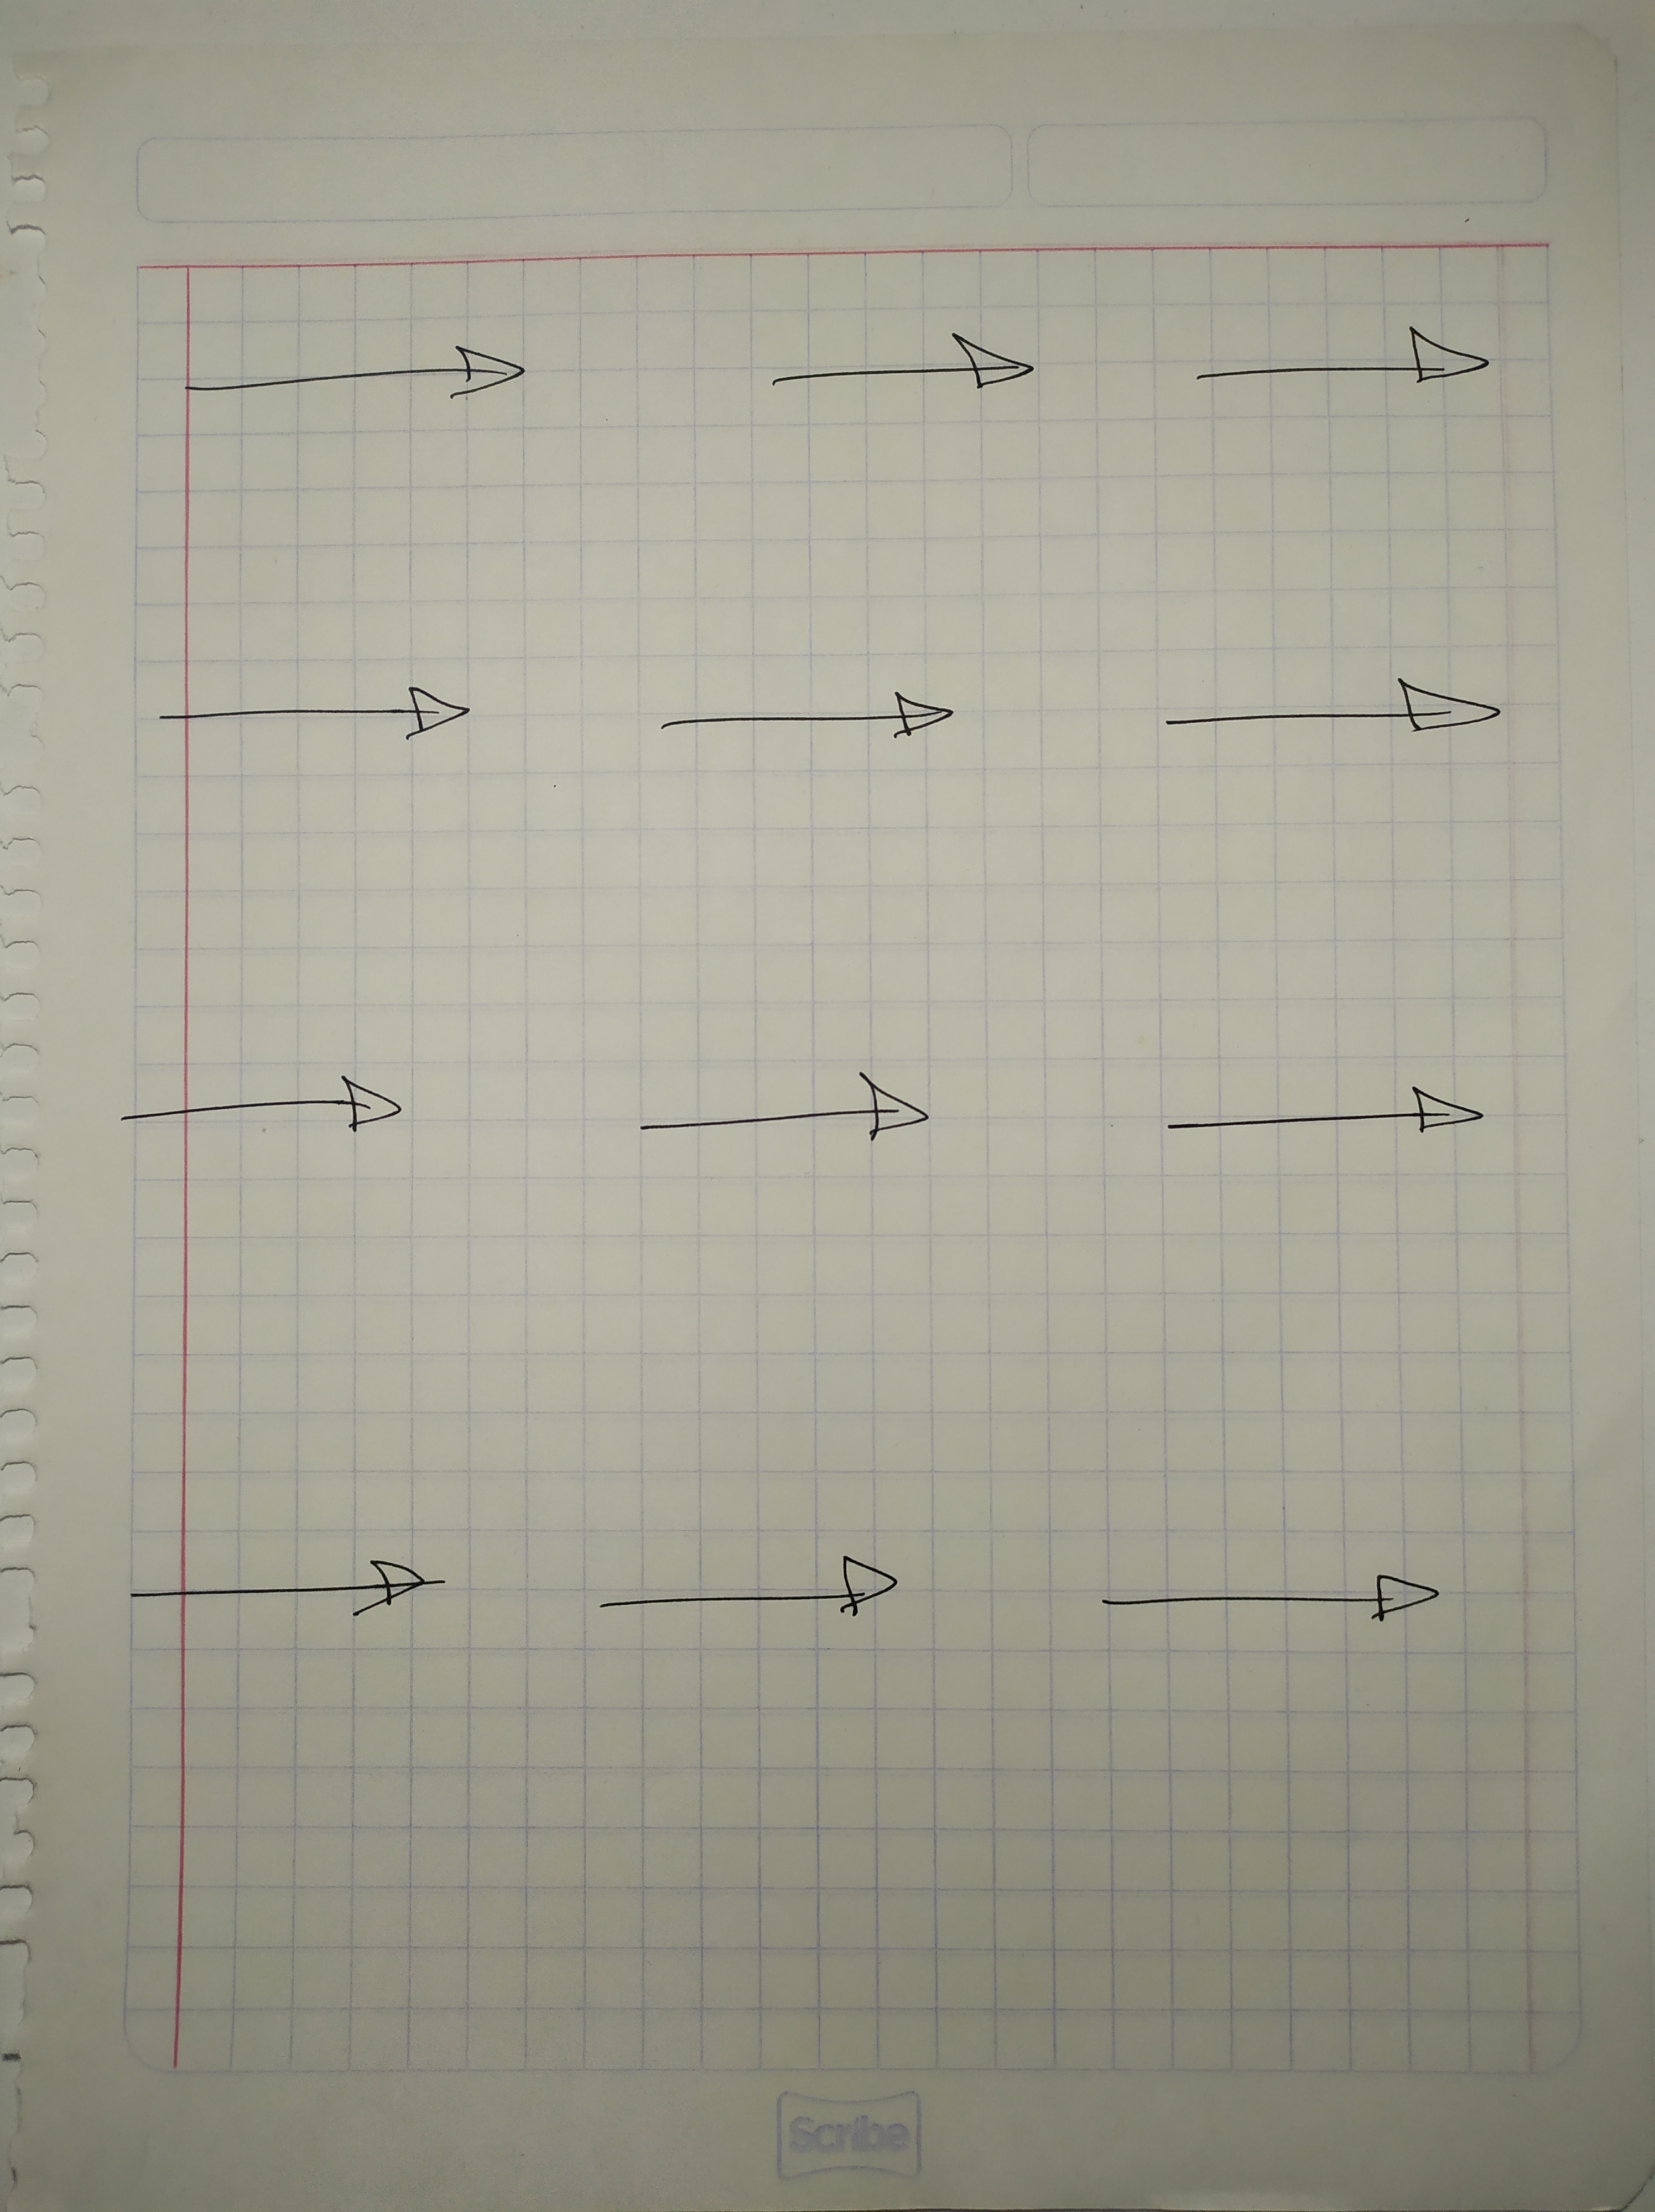arrow_line_right: (1137, 653, 1518, 784), (1149, 313, 1525, 440), (129, 646, 487, 772), (1130, 1060, 1502, 1178), (572, 1541, 937, 1647), (1078, 1540, 1460, 1640), (158, 325, 539, 426), (612, 657, 967, 763), (598, 1048, 946, 1154), (97, 1529, 464, 1625), (741, 318, 1057, 417), (92, 1060, 422, 1152)
